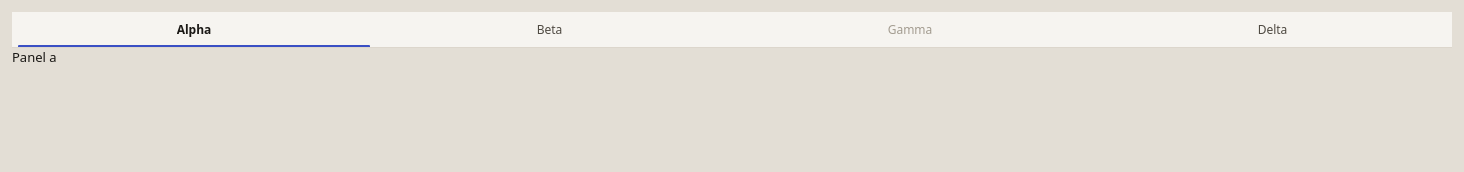
it: Tabs › selects on click
What coordinates should you click on to do the following:
click the tab "Delta"
I would click on:
 (1272, 30)
Its box is [1095,12,1450,47].
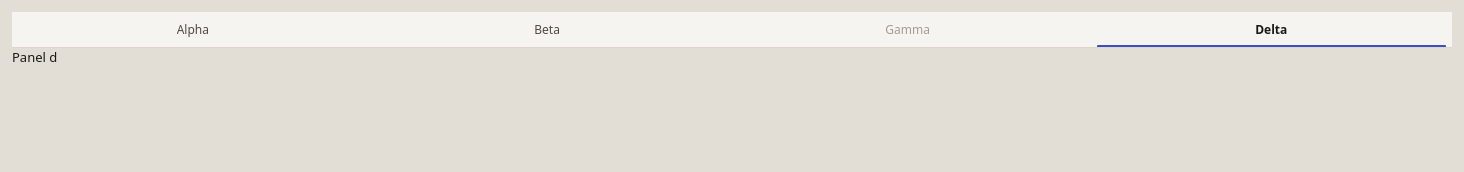
Result: the panel reads "Panel d" at [12,48,57,66]
